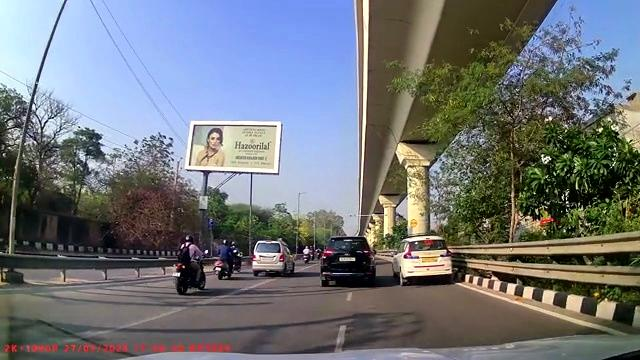motorcycle_with_helmet: (172, 234, 207, 295), (215, 238, 234, 280)
